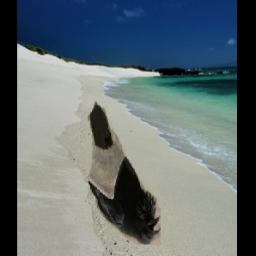Crow: (88, 101, 162, 246)
